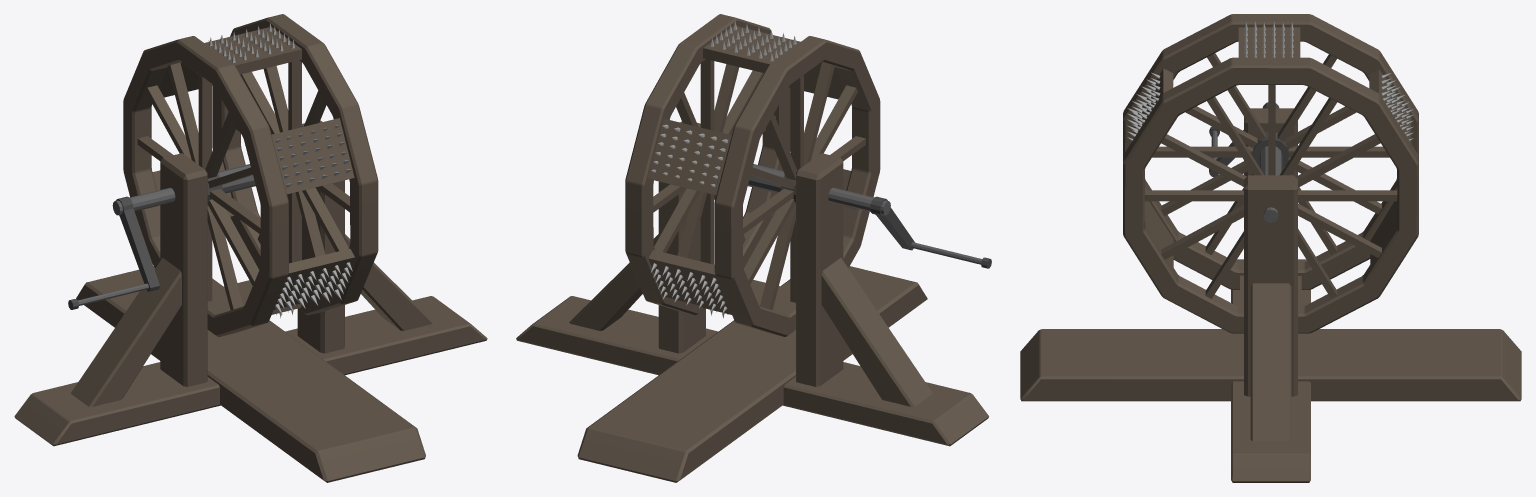
The model's file is RuedadeTortura.fbx.
3 renders of one model, left to right at view 1: azimuth 30°, elevation 25°; view 2: azimuth 150°, elevation 25°; view 3: azimuth 270°, elevation 25°, orthographic.
Visible parts, largest first — view 1: polySurface158; view 2: polySurface158; view 3: polySurface158.
Part boxes in pixels (bbox=[...]): polySurface158: bbox=[14, 14, 487, 482]; polySurface158: bbox=[516, 14, 991, 482]; polySurface158: bbox=[1020, 14, 1521, 482].
Size of the model in its own units: 4.01 by 3.01 by 4.01.
